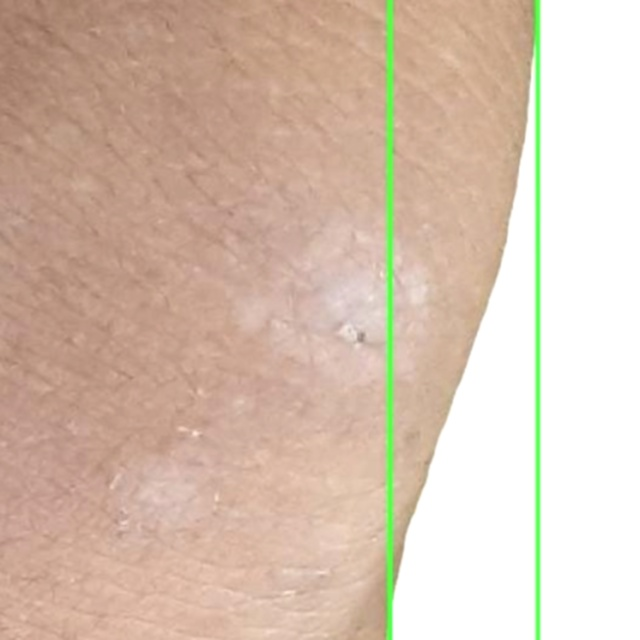Scabies: (0, 0, 538, 639), (388, 0, 639, 639)
